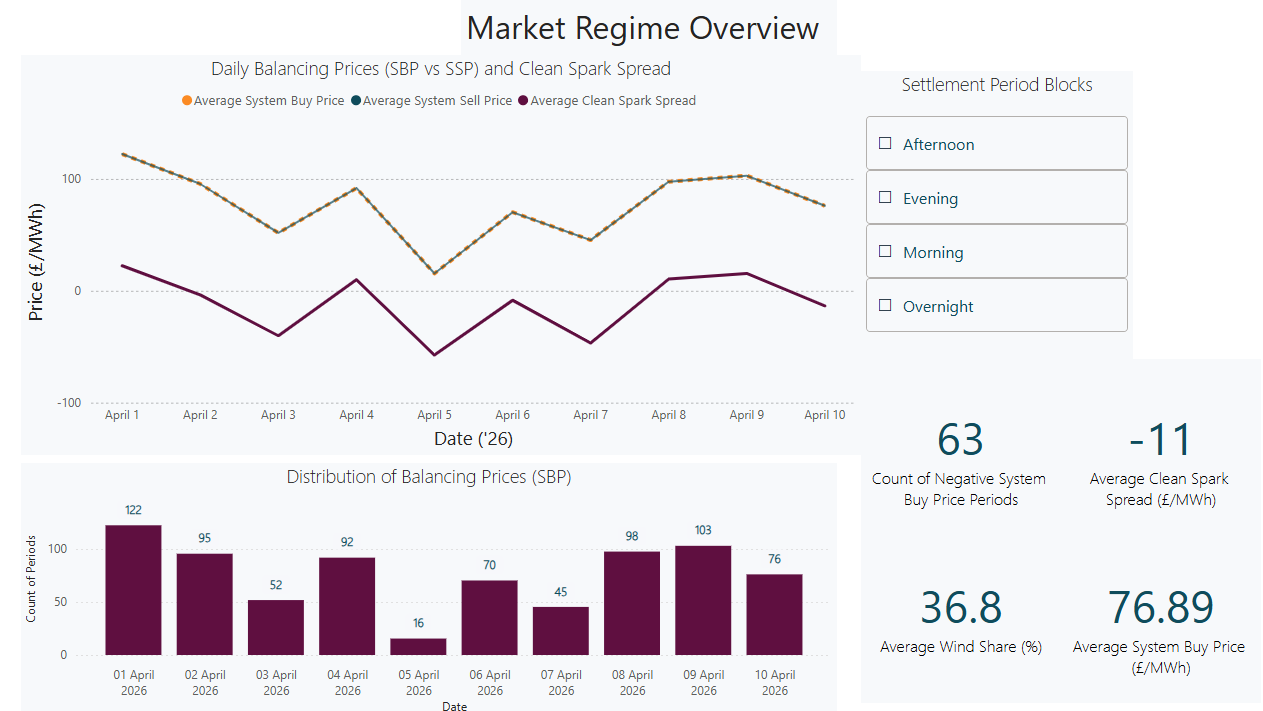

This screenshot's page, from the dashboard's own definition file:
{"tool":"powerbi","page":{"name":"Market Regime Overview","canvas":[1280,720],"ordinal":0},"visuals":[{"type":"card","fields":{"Values":["fact_power_market.Avg SBP"]},"box":[1064,528,200,176],"z":0,"group":"g1"},{"type":"card","fields":{"Values":["fact_power_market.Avg Clean Spark Spread"]},"box":[1064,360,200,176],"z":1000,"group":"g1"},{"type":"lineStackedColumnComboChart","title":"Distribution of Balancing Prices (SBP)","fields":{"Category":["fact_power_market.date"],"Y":["fact_power_market.Avg SBP"]},"box":[24,464,816,256],"z":1000},{"type":"advancedSlicerVisual","title":"Settlement Period Blocks","fields":{"Values":["fact_power_market.SP_HourBlock"]},"box":[864,72,272,288],"z":2000},{"type":"card","fields":{"Values":["fact_power_market.Avg Wind %"]},"box":[864,528,200,176],"z":2000,"group":"g1"},{"type":"textbox","box":[464,0,376,56],"z":3000},{"type":"card","fields":{"Values":["fact_power_market.Negative SBP Periods"]},"box":[864,360,200,176],"z":3000,"group":"g1"},{"type":"group","id":"g1","title":"Group 1","box":[864,360,400,344],"z":4000},{"type":"lineChart","title":"Daily Balancing Prices (SBP vs SSP) and Clean Spark Spread","fields":{"Category":["fact_power_market.date.Variation.Date Hierarchy.Month","fact_power_market.date.Variation.Date Hierarchy.Day","fact_power_market.settlement_period"],"Y":["fact_power_market.Avg SBP","fact_power_market.Avg SSP","fact_power_market.Avg Clean Spark Spread"]},"box":[24,56,840,400],"z":4001}]}

Visuals, with their boxes in screenshot pixels (x1, y1, x2, y2), scaled from the page's 1280x720 canvas onto the 1263x711 screenshot:
card - fact_power_market.Avg SBP: crop(1050, 521, 1247, 695)
card - fact_power_market.Avg Clean Spark Spread: crop(1050, 356, 1247, 529)
"Distribution of Balancing Prices (SBP)" lineStackedColumnComboChart: crop(24, 458, 829, 710)
"Settlement Period Blocks" advancedSlicerVisual: crop(853, 71, 1121, 356)
card - fact_power_market.Avg Wind %: crop(853, 521, 1050, 695)
textbox: crop(458, 0, 829, 55)
card - fact_power_market.Negative SBP Periods: crop(853, 356, 1050, 529)
"Group 1" group: crop(853, 356, 1247, 695)
"Daily Balancing Prices (SBP vs SSP) and Clean Spark Spread" lineChart: crop(24, 55, 853, 450)
